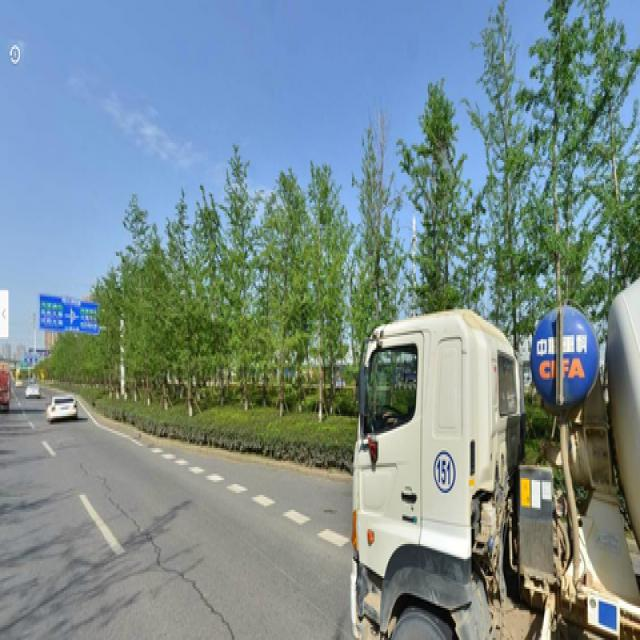gink: (480, 53, 543, 333), (300, 194, 336, 412), (355, 173, 389, 322)
